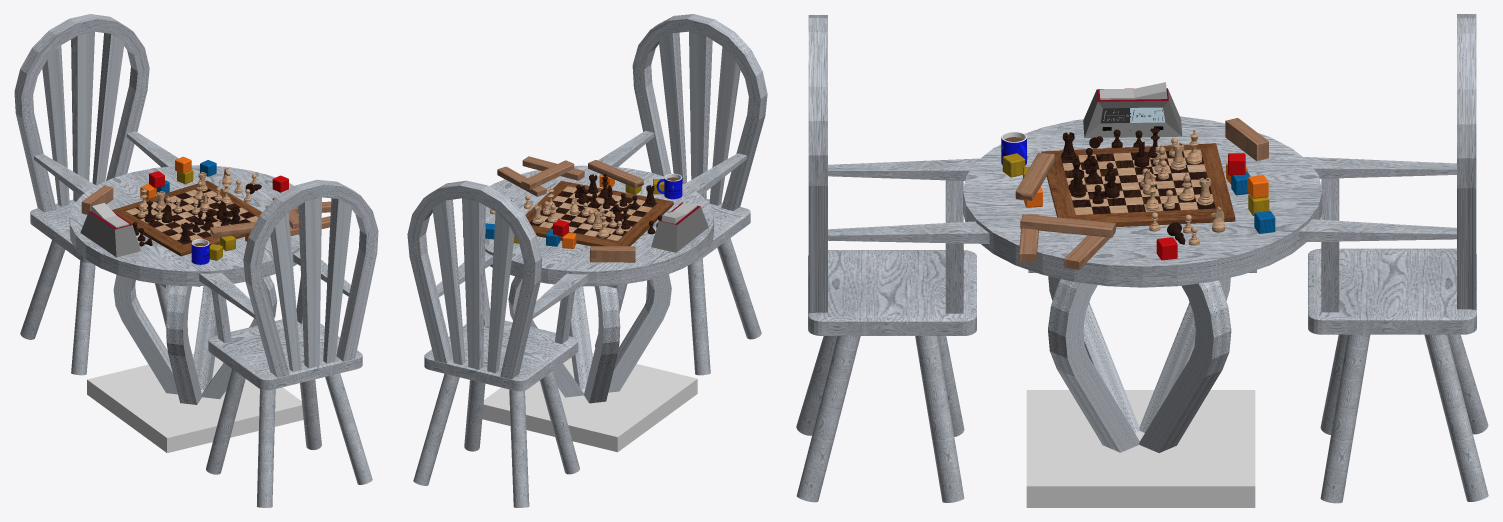
Rendered from ChessUpdater.fbx.
3 renders of one model, left to right at view 1: azimuth 30°, elevation 25°; view 2: azimuth 150°, elevation 25°; view 3: azimuth 270°, elevation 25°, orthographic. The views are drawn at different scales.
Parts seen in each view (by area): view 1: Cube.001, Table, Cube.003, ChessBoard, TimerStoparca, OneKocka, trikocke.004, coffemug; view 2: Cube.003, Table, Cube.001, ChessBoard, TimerStoparca, OneKocka, trikocke.001, trikocke.004, trikocke.002, coffemug, trikocke.003; view 3: Table, Cube.003, Cube.001, ChessBoard, TimerStoparca, trikocke.001, OneKocka, trikocke.004, trikocke.003.
Boxes of the visible parts, bbox=[...] form: Cube.001: bbox=[199, 179, 378, 507]; Table: bbox=[69, 165, 303, 452]; Cube.003: bbox=[14, 14, 178, 375]; ChessBoard: bbox=[112, 180, 262, 256]; TimerStoparca: bbox=[80, 203, 140, 257]; OneKocka: bbox=[81, 185, 113, 214]; trikocke.004: bbox=[210, 221, 255, 237]; coffemug: bbox=[191, 239, 209, 264]; Cube.003: bbox=[407, 180, 588, 507]; Table: bbox=[463, 165, 713, 452]; Cube.001: bbox=[595, 14, 767, 375]; ChessBoard: bbox=[525, 180, 673, 246]; TimerStoparca: bbox=[651, 202, 708, 252]; OneKocka: bbox=[590, 246, 635, 262]; trikocke.001: bbox=[521, 160, 574, 190]; trikocke.004: bbox=[588, 160, 643, 188]; trikocke.002: bbox=[522, 156, 584, 180]; coffemug: bbox=[656, 173, 682, 199]; trikocke.003: bbox=[497, 166, 546, 196]; Table: bbox=[963, 116, 1322, 507]; Cube.003: bbox=[1299, 14, 1488, 503]; Cube.001: bbox=[796, 15, 989, 502]; ChessBoard: bbox=[1041, 143, 1235, 227]; TimerStoparca: bbox=[1083, 82, 1182, 137]; trikocke.001: bbox=[1020, 214, 1115, 237]; OneKocka: bbox=[1225, 118, 1268, 160]; trikocke.004: bbox=[1015, 153, 1054, 200]; trikocke.003: bbox=[1063, 233, 1114, 269].
Size of the model in its own units: 4189 by 5582 by 7906.
